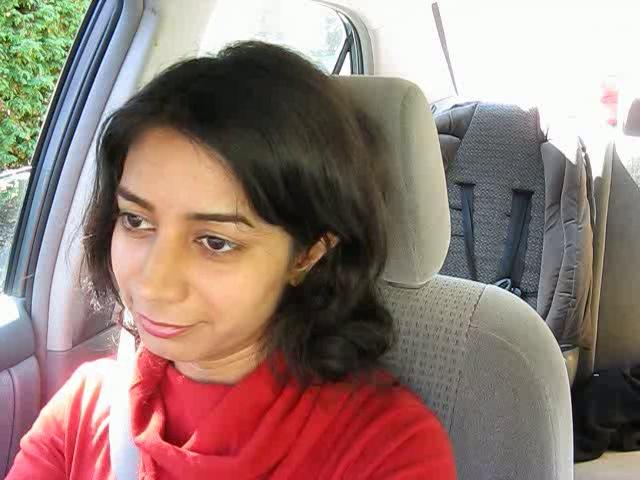no_yawn: (120, 302, 209, 350)
open_eyeL: (111, 198, 165, 243)
open_eyeR: (180, 219, 256, 265)
